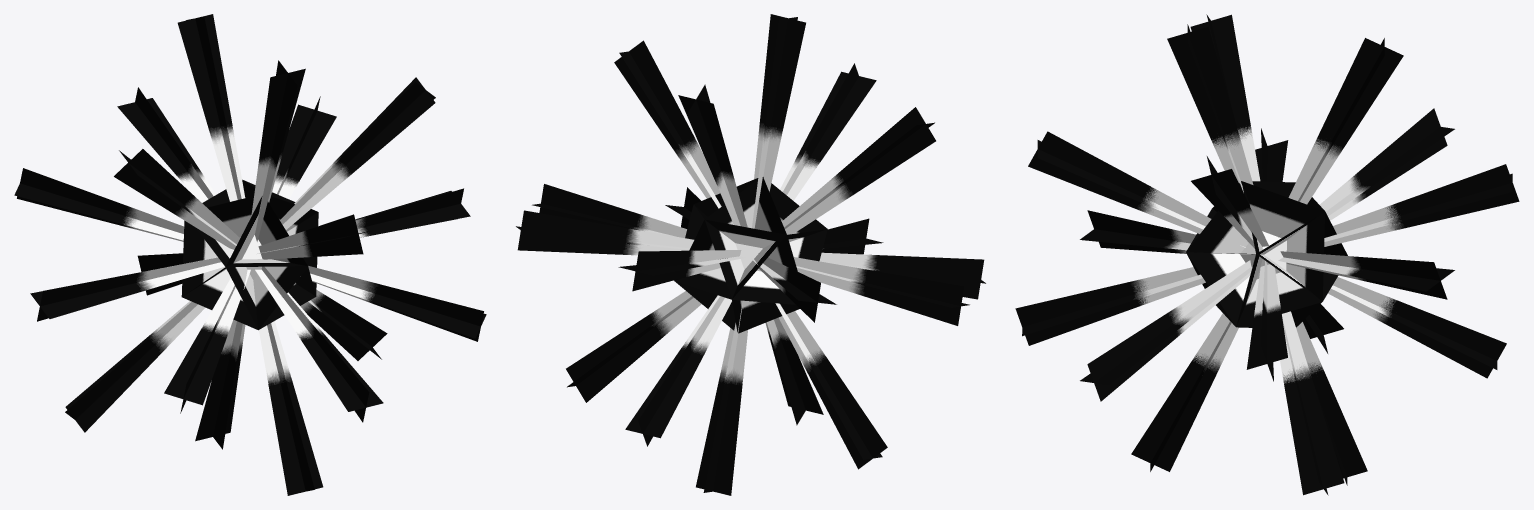
The model's file is star.obj.
3 views of the same model, side by side, from view 1: azimuth 30°, elevation 25°; view 2: azimuth 150°, elevation 25°; view 3: azimuth 270°, elevation 25° (orthographic). The views are drawn at different scales.
Parts seen in each view (by area): view 1: GeometryNode_33, IcoSphere; view 2: GeometryNode_33, IcoSphere; view 3: GeometryNode_33, IcoSphere.
Boxes of the visible parts, x1,y1,x2,y2 form: GeometryNode_33: (14, 14, 486, 495); IcoSphere: (181, 179, 318, 330); GeometryNode_33: (516, 14, 985, 495); IcoSphere: (674, 177, 827, 333); GeometryNode_33: (1015, 14, 1519, 495); IcoSphere: (1186, 181, 1347, 327).
Bounding box in the file's own units: 17.98 × 17.57 × 17.57.
Materials: 1 (1 with a texture image).
